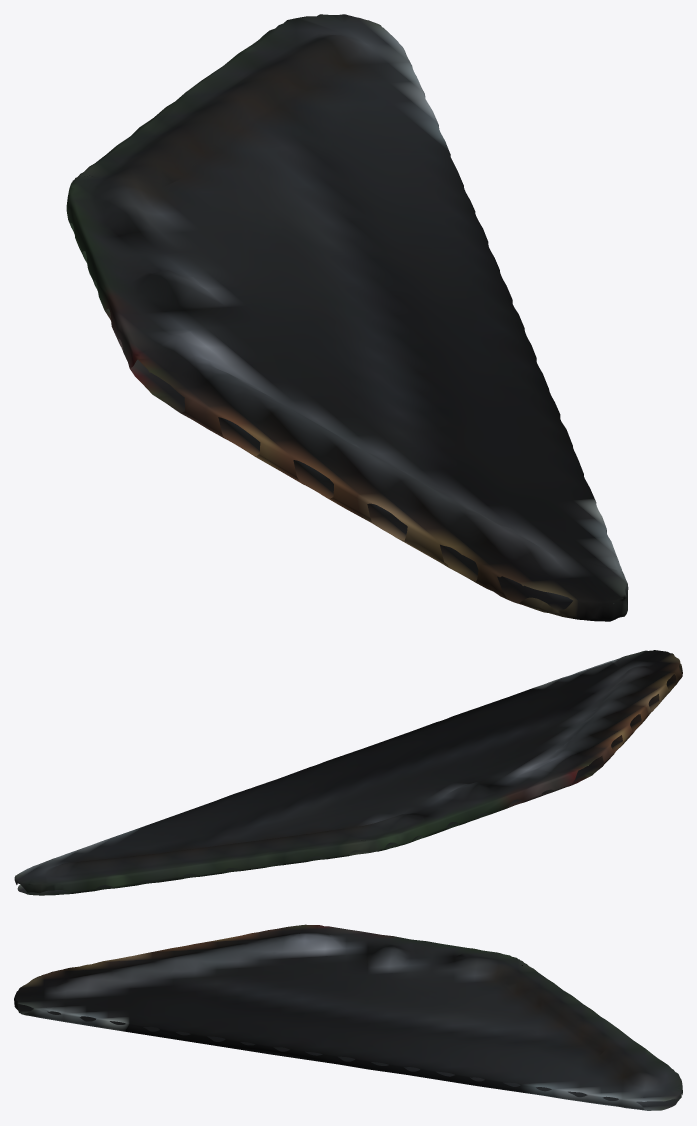
File: layer2butterflyl.fbx
3 views of the same model, one above another, from view 1: azimuth 30°, elevation 25°; view 2: azimuth 150°, elevation 25°; view 3: azimuth 270°, elevation 25° (orthographic). The views are drawn at different scales.
Parts seen in each view (by area): view 1: layer2butterflyl; view 2: layer2butterflyl; view 3: layer2butterflyl.
Boxes of the visible parts, <box> form: layer2butterflyl: <box>66,14,628,621</box>; layer2butterflyl: <box>14,650,682,895</box>; layer2butterflyl: <box>14,924,682,1110</box>.
Size of the model in its own units: 1.89 by 0.272 by 3.63.
Materials: 1 (1 with a texture image).
